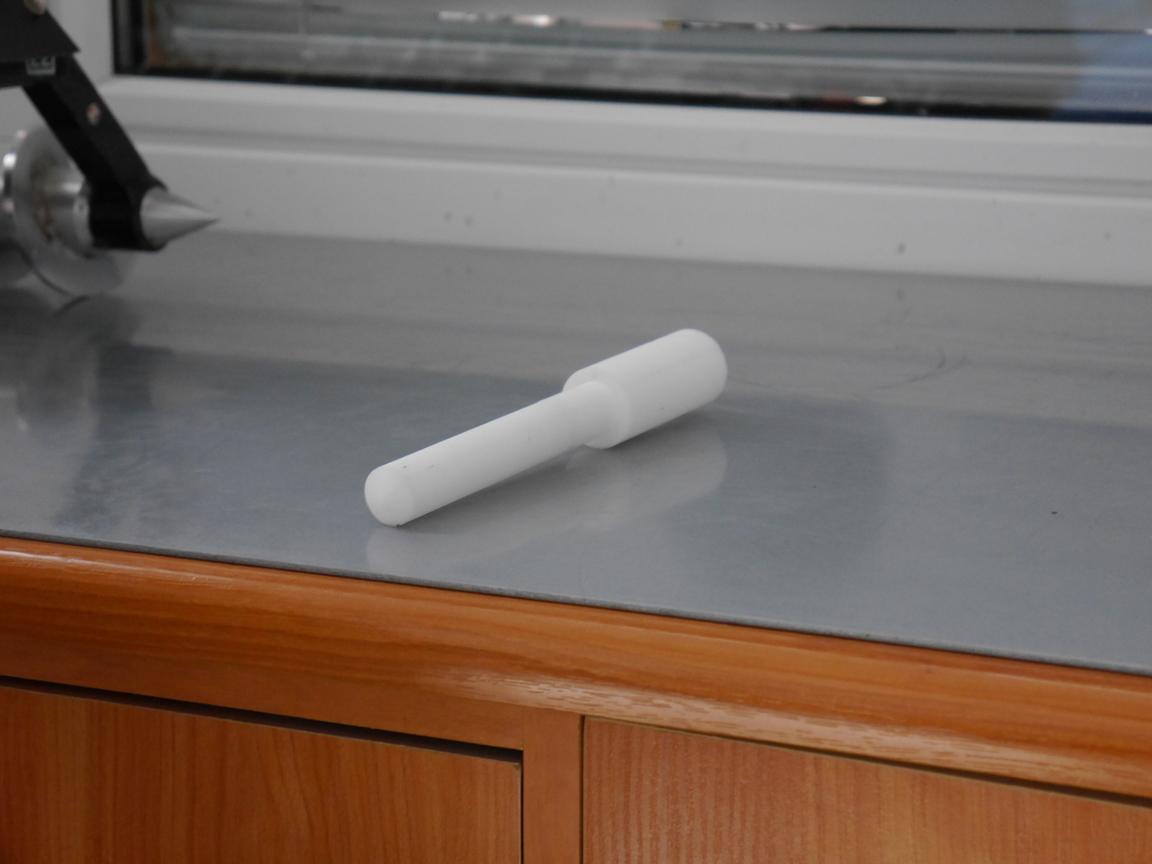cargo_g: (362, 329, 727, 528)
